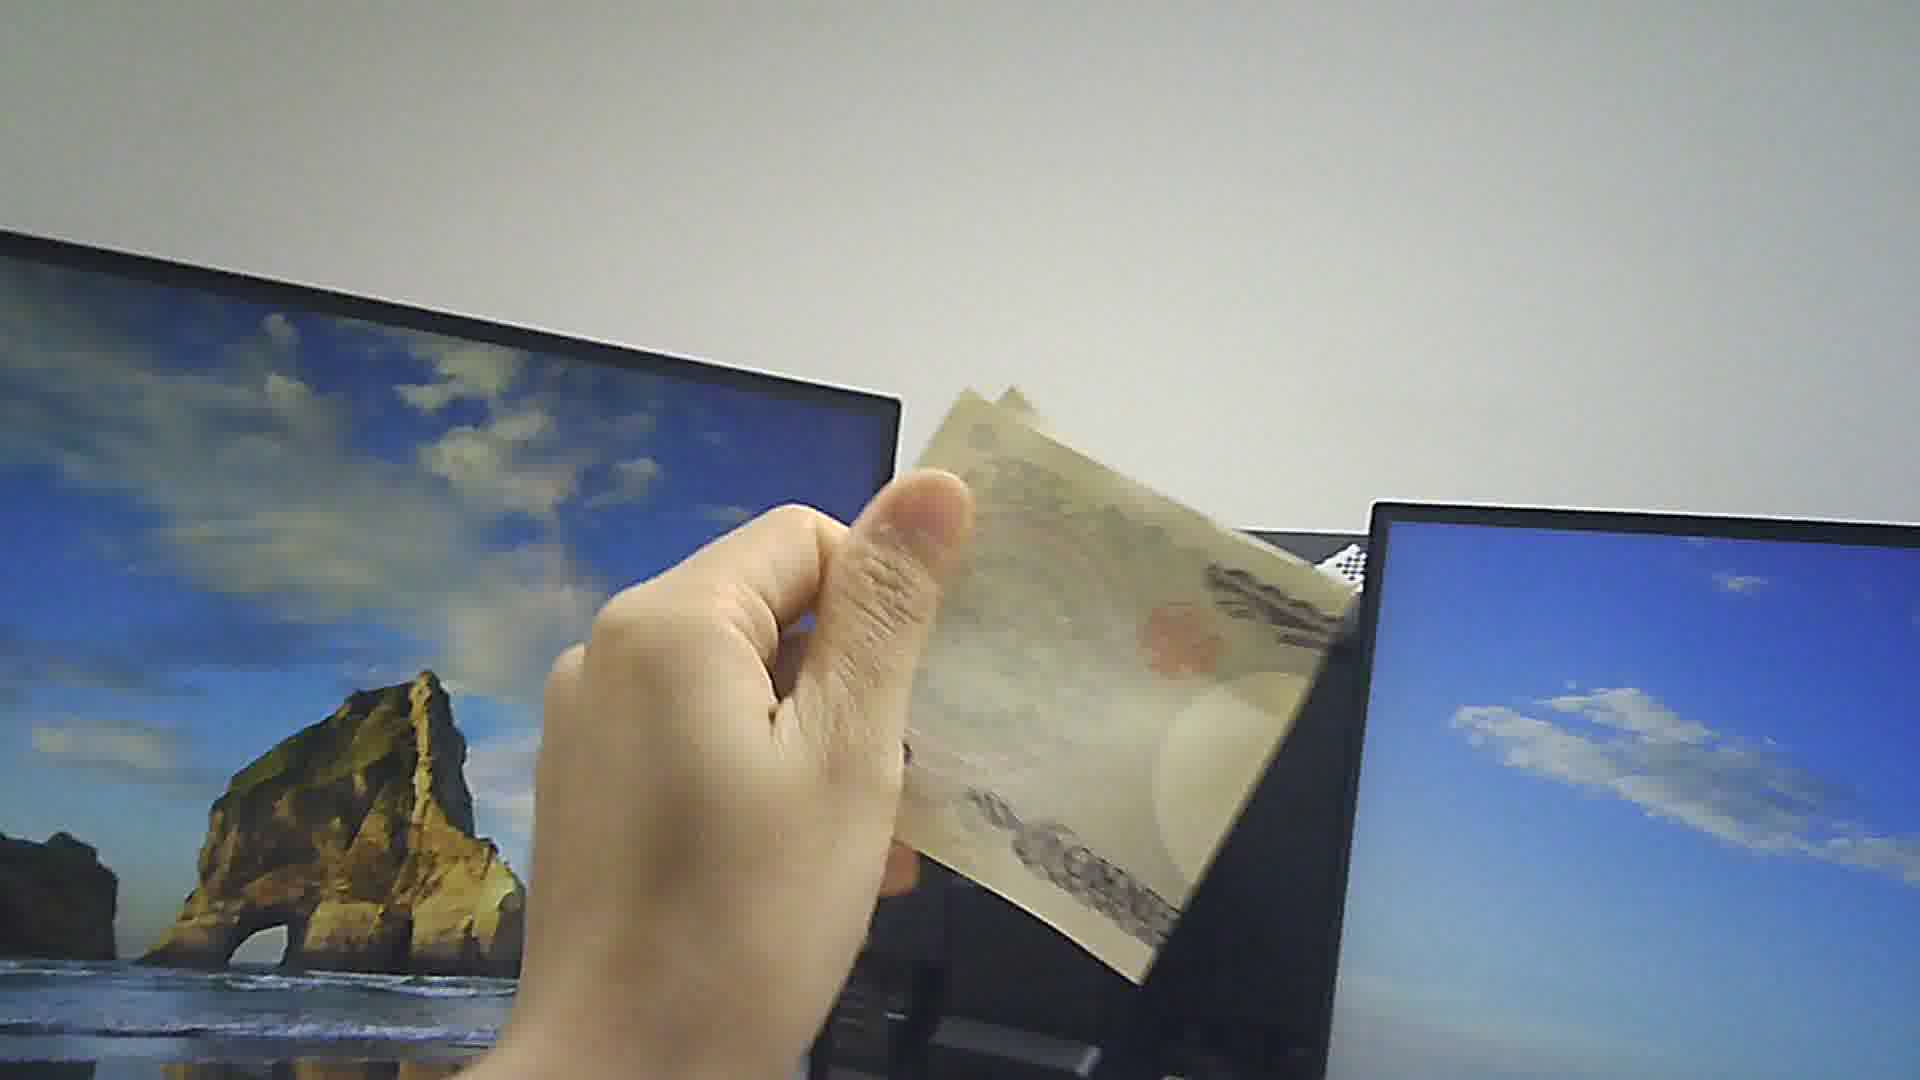5,000 Yen: (808, 386, 1394, 990)
